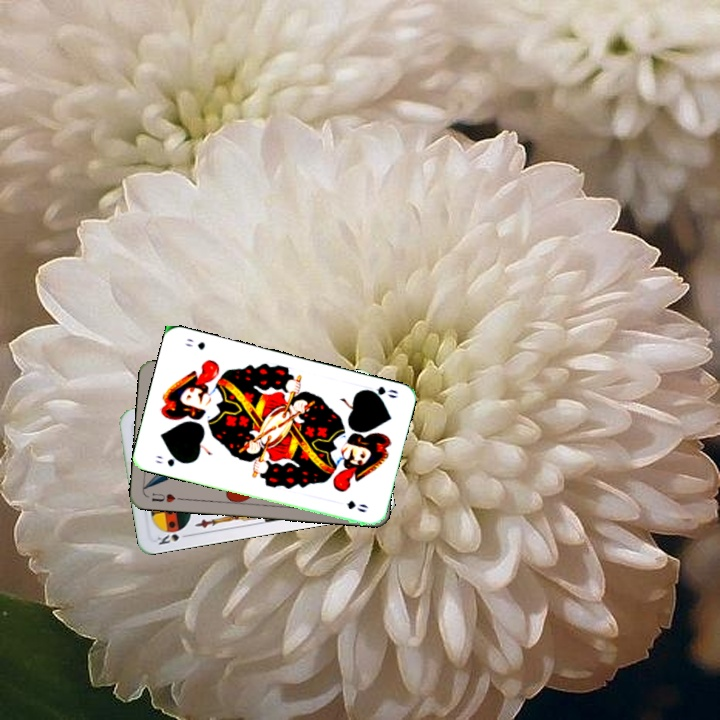GO: (360, 382, 400, 402), (152, 451, 188, 469)
HU: (148, 489, 185, 505)
SK: (153, 530, 192, 547)
